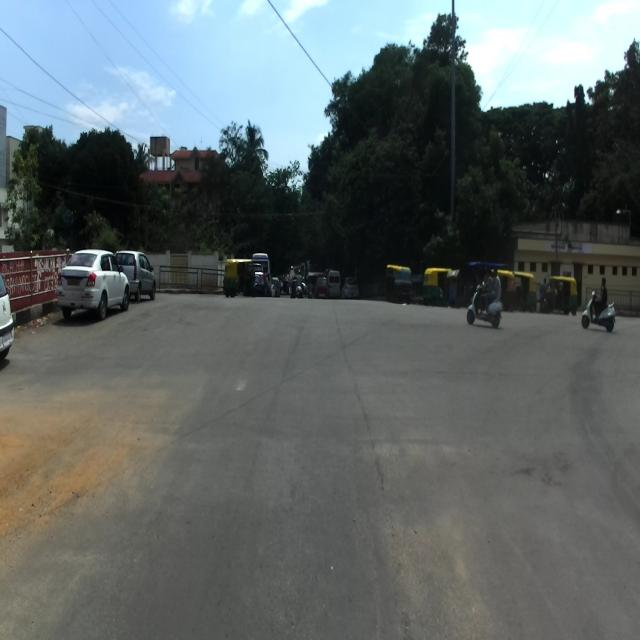car: (55, 248, 129, 322)
